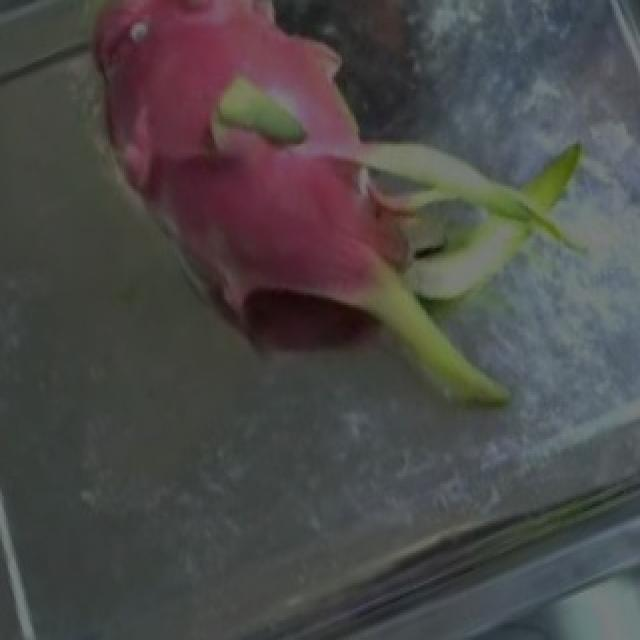fruit: (172, 2, 608, 462), (10, 0, 404, 419)
